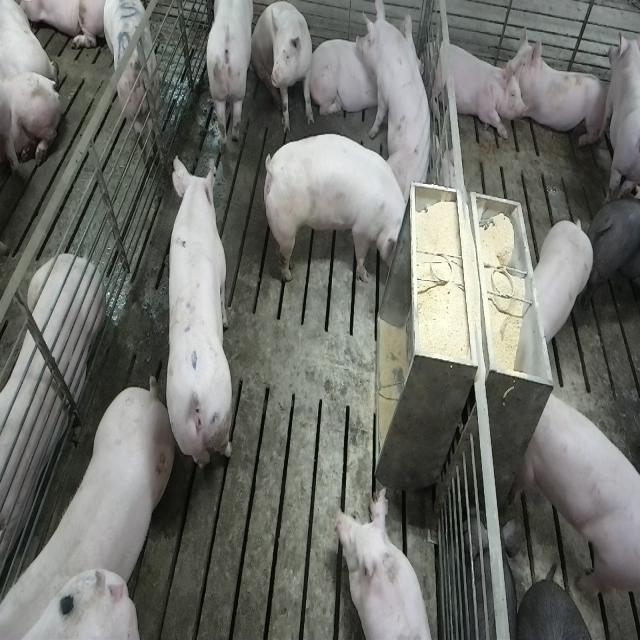Sitting: (358, 0, 437, 191), (252, 1, 316, 129)
Standing: (518, 389, 639, 599), (163, 154, 234, 479), (102, 2, 162, 158), (530, 218, 594, 352), (203, 2, 256, 153), (586, 190, 640, 315), (608, 25, 640, 203), (518, 578, 602, 638)
Sternal_lying: (0, 248, 102, 580), (334, 482, 435, 640), (510, 33, 612, 150), (424, 30, 523, 142), (310, 27, 382, 122)
